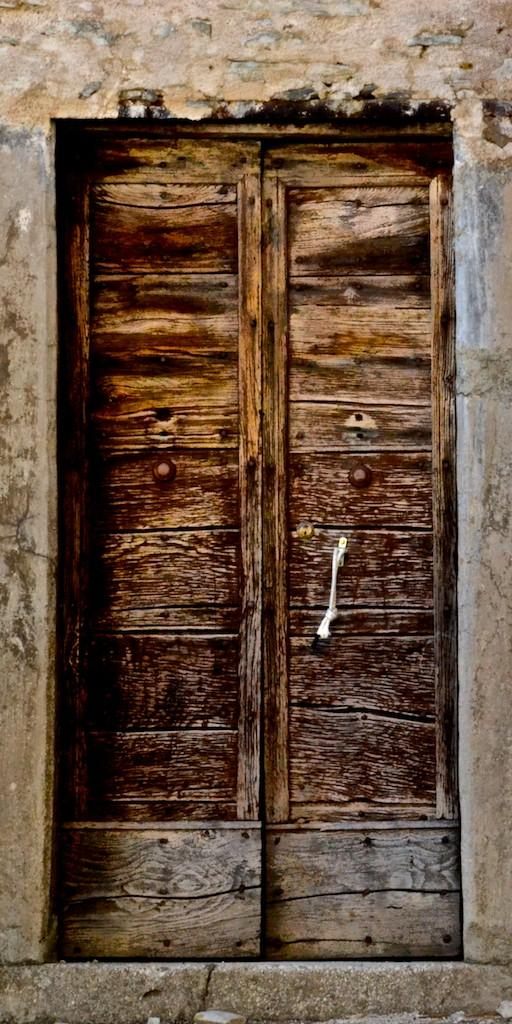door: (51, 117, 462, 962)
